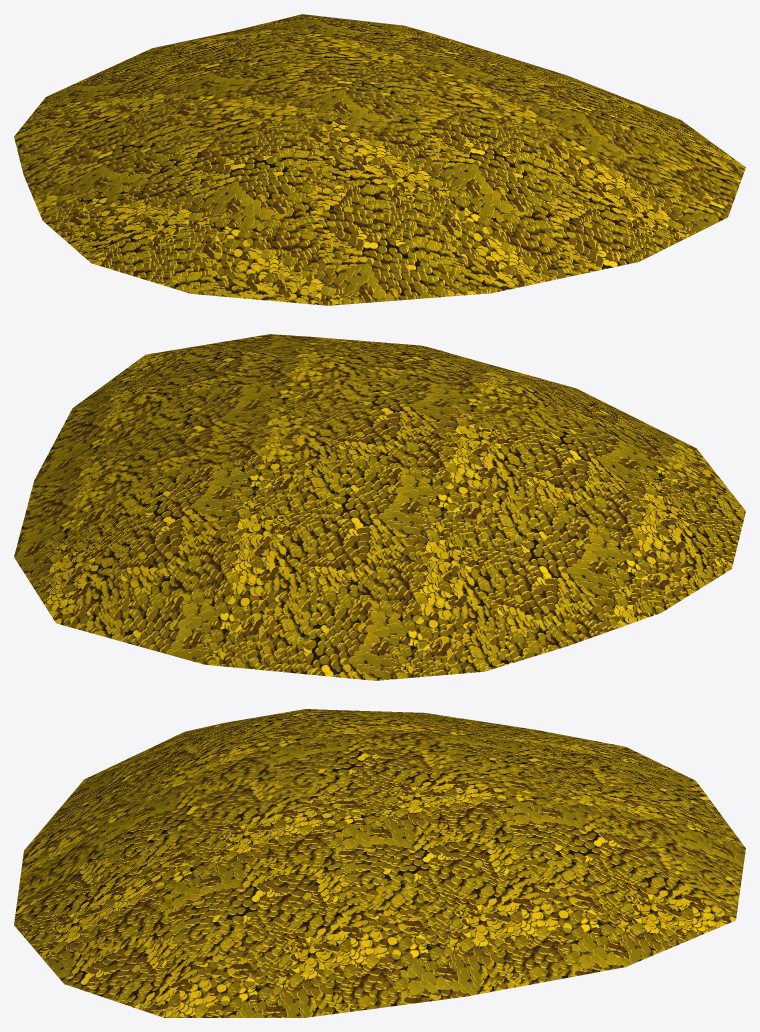
File: INST_SM_GOLDPILE_MEDIUMD.fbx
3 views of the same model, one above another, from view 1: azimuth 30°, elevation 25°; view 2: azimuth 150°, elevation 25°; view 3: azimuth 270°, elevation 25° (orthographic). The views are drawn at different scales.
Parts seen in each view (by area): view 1: INST_SM_GOLDPILE_MEDIUMD; view 2: INST_SM_GOLDPILE_MEDIUMD; view 3: INST_SM_GOLDPILE_MEDIUMD.
Boxes of the visible parts, x1=… form: INST_SM_GOLDPILE_MEDIUMD: x1=14, y1=14, x2=745, y2=305; INST_SM_GOLDPILE_MEDIUMD: x1=14, y1=334, x2=745, y2=680; INST_SM_GOLDPILE_MEDIUMD: x1=14, y1=709, x2=745, y2=1017.
Size of the model in its own units: 91098 by 13958 by 91250.
1 material, 1 textured.
